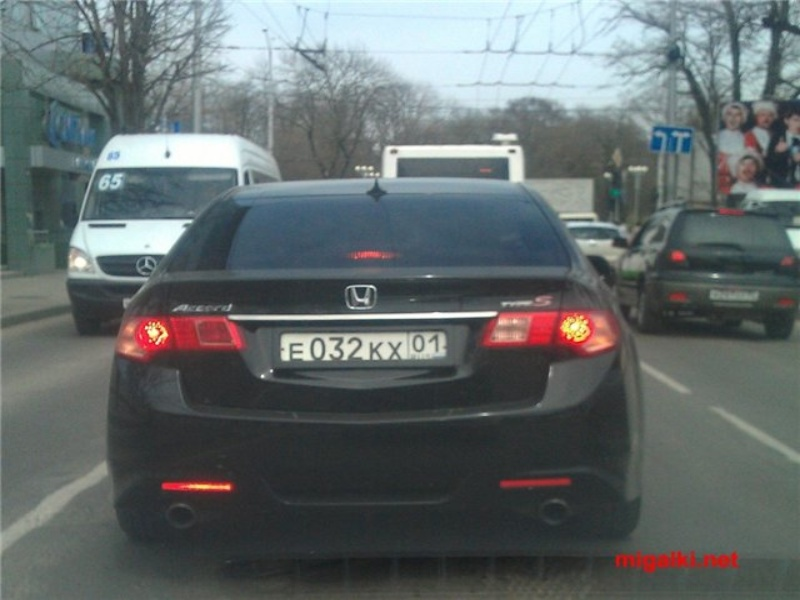car: (106, 177, 645, 544), (66, 132, 283, 331), (616, 205, 799, 341)
plate: (280, 331, 446, 359)
